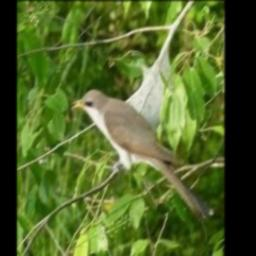Cuckoo: (70, 89, 209, 223)
